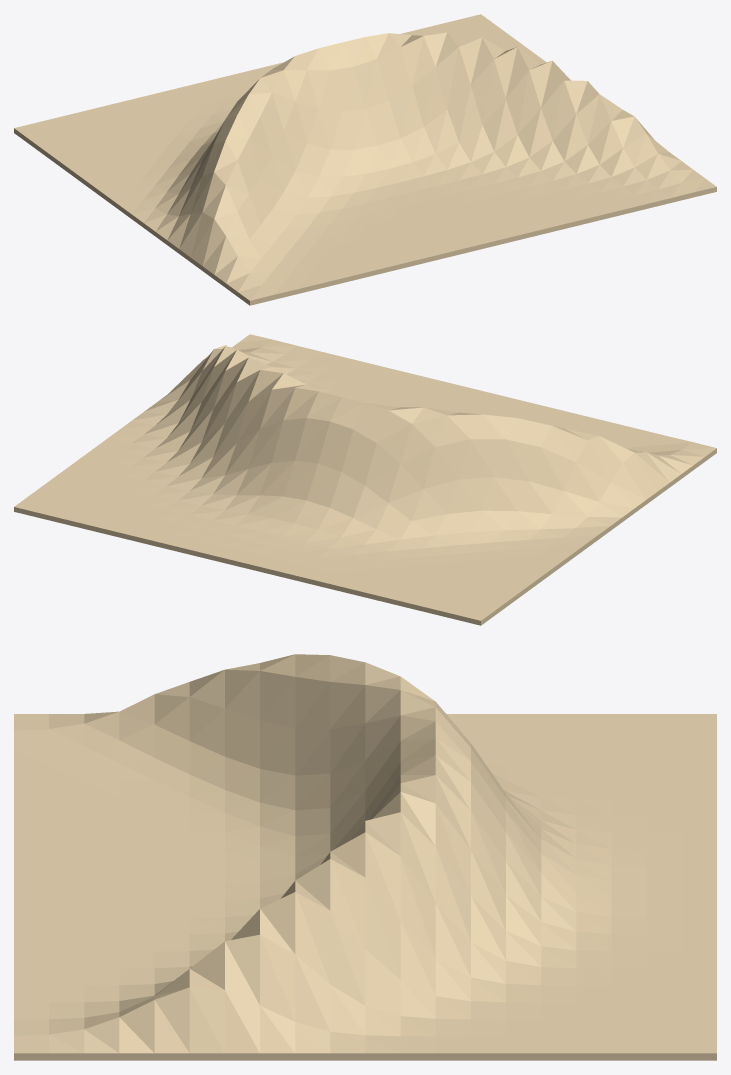
The model's file is desert-canyons-and-oases-barchan-dune-144709e5__20952.glb.
3 views of the same model, one above another, from view 1: azimuth 30°, elevation 25°; view 2: azimuth 150°, elevation 25°; view 3: azimuth 270°, elevation 25° (orthographic). The views are drawn at different scales.
Parts seen in each view (by area): view 1: barchan-dune; view 2: barchan-dune; view 3: barchan-dune.
Part boxes in pixels (box(x1,y1,x2,y2)): barchan-dune: box(14, 14, 716, 305); barchan-dune: box(14, 334, 716, 625); barchan-dune: box(14, 654, 716, 1060).
Size of the model in its own units: 8 by 1.68 by 7.
